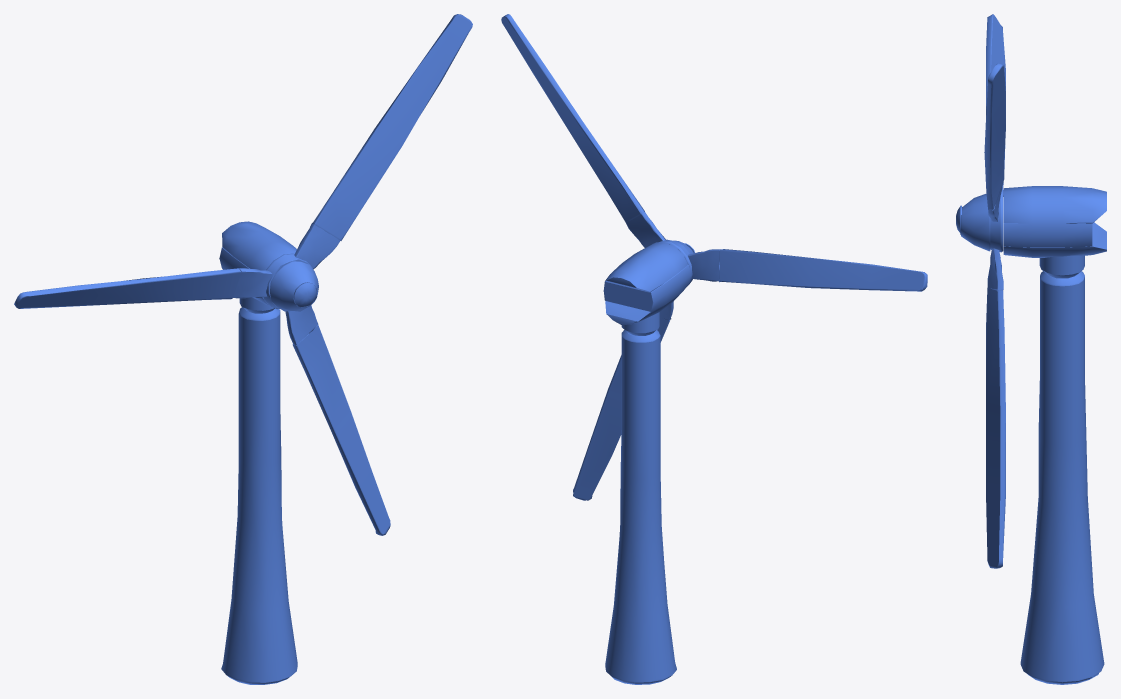
Rendered from WindTurbine_Blue.fbx.
3 views of the same model, side by side, from view 1: azimuth 30°, elevation 25°; view 2: azimuth 150°, elevation 25°; view 3: azimuth 270°, elevation 25° (orthographic). The views are drawn at different scales.
Visible parts, largest first — view 1: cylinder84, polymsh_extracted67, polymsh_extracted72, polymsh_extracted71, polymsh_extracted65, polymsh_detached130, polymsh_detached129, polymsh_extracted66, polymsh_detached135, polymsh_detached136; view 2: cylinder84, polymsh_extracted71, polymsh_extracted67, polymsh_extracted65, polymsh_extracted72, polymsh_detached132, polymsh_detached135, polymsh_detached129; view 3: cylinder84, polymsh_extracted72, polymsh_extracted65, polymsh_extracted67, polymsh_detached132, polymsh_detached130, polymsh_extracted71, polymsh_detached133, polymsh_extracted66, polymsh_detached136.
Part boxes in pixels (x1,y1,x2,y2): cylinder84: (221,307,297,684); polymsh_extracted67: (313,14,472,240); polymsh_extracted72: (292,325,390,535); polymsh_extracted71: (14,268,241,308); polymsh_extracted65: (222,221,296,309); polymsh_detached130: (270,261,318,311); polymsh_detached129: (293,222,339,269); polymsh_extracted66: (263,253,317,308); polymsh_detached135: (233,268,275,298); polymsh_detached136: (285,305,318,345); cylinder84: (605,330,676,684); polymsh_extracted71: (719,249,927,291); polymsh_extracted67: (501,14,644,222); polymsh_extracted65: (605,242,687,324); polymsh_extracted72: (573,317,669,500); polymsh_detached132: (603,264,691,311); polymsh_detached135: (685,249,721,281); polymsh_detached129: (626,212,665,247); cylinder84: (1020,271,1104,684); polymsh_extracted72: (986,288,1005,568); polymsh_extracted65: (1003,186,1106,257); polymsh_extracted67: (984,63,1005,209); polymsh_detached132: (1003,223,1092,247); polymsh_detached130: (961,193,990,251); polymsh_extracted71: (986,14,1005,188); polymsh_detached133: (1039,255,1084,278); polymsh_extracted66: (956,188,1003,252); polymsh_detached136: (987,248,1003,290).
Size of the model in its own units: 3615 by 4830 by 950.
